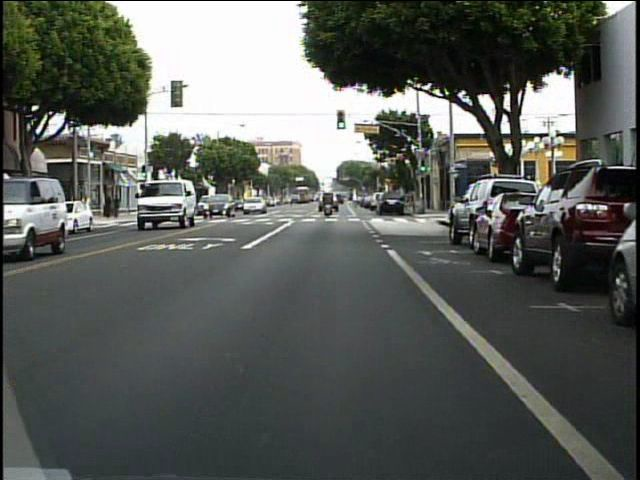person: (321, 189, 337, 219)
